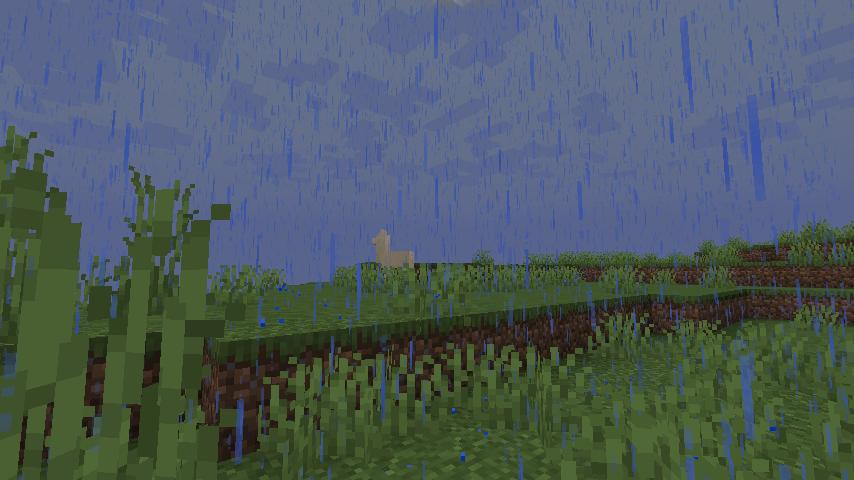llama: (368, 224, 420, 280)
